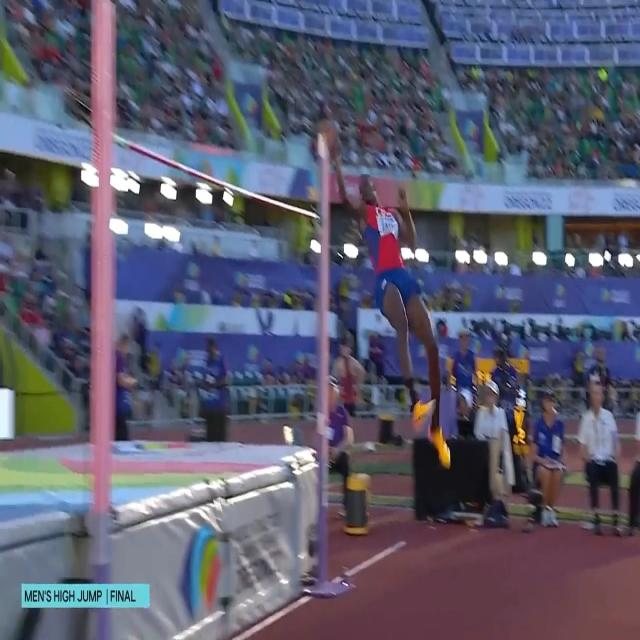jump: (333, 148, 452, 470)
